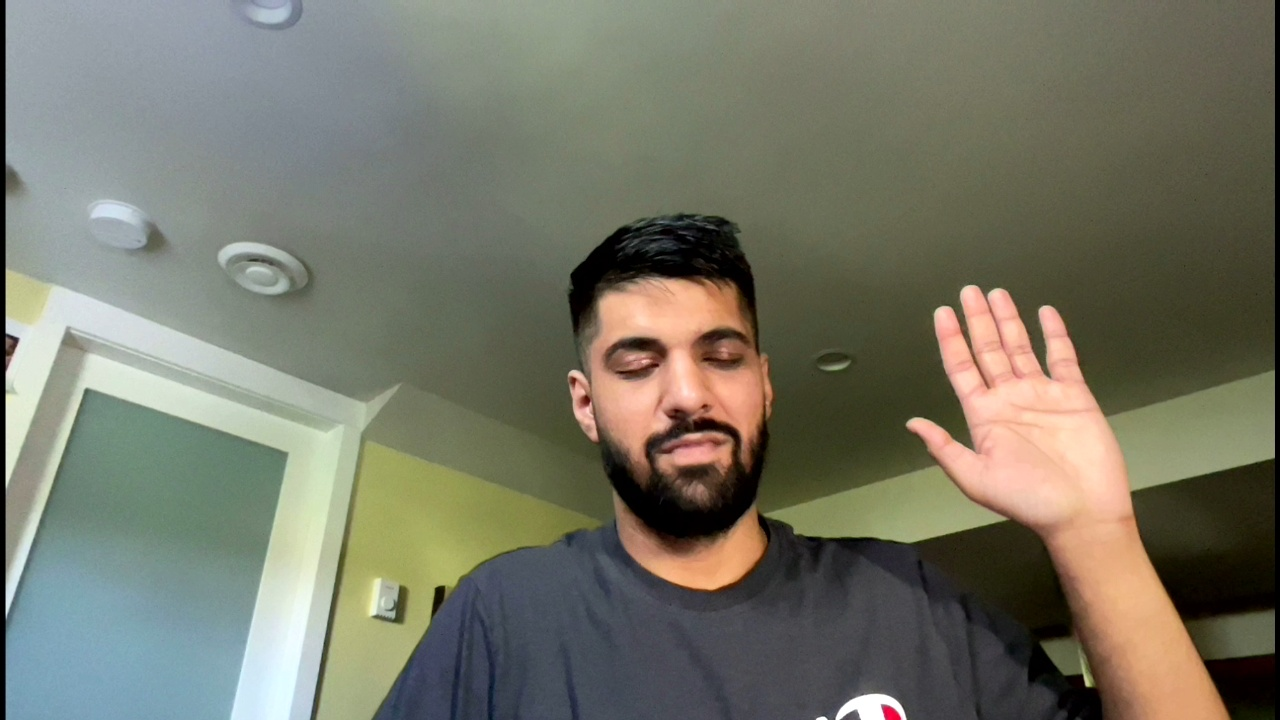Hey!: (898, 281, 1165, 533)
